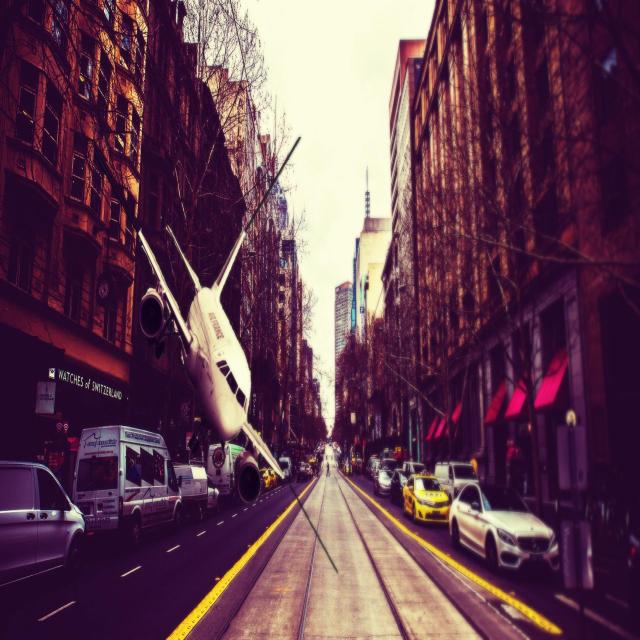airplane: (135, 134, 301, 495)
